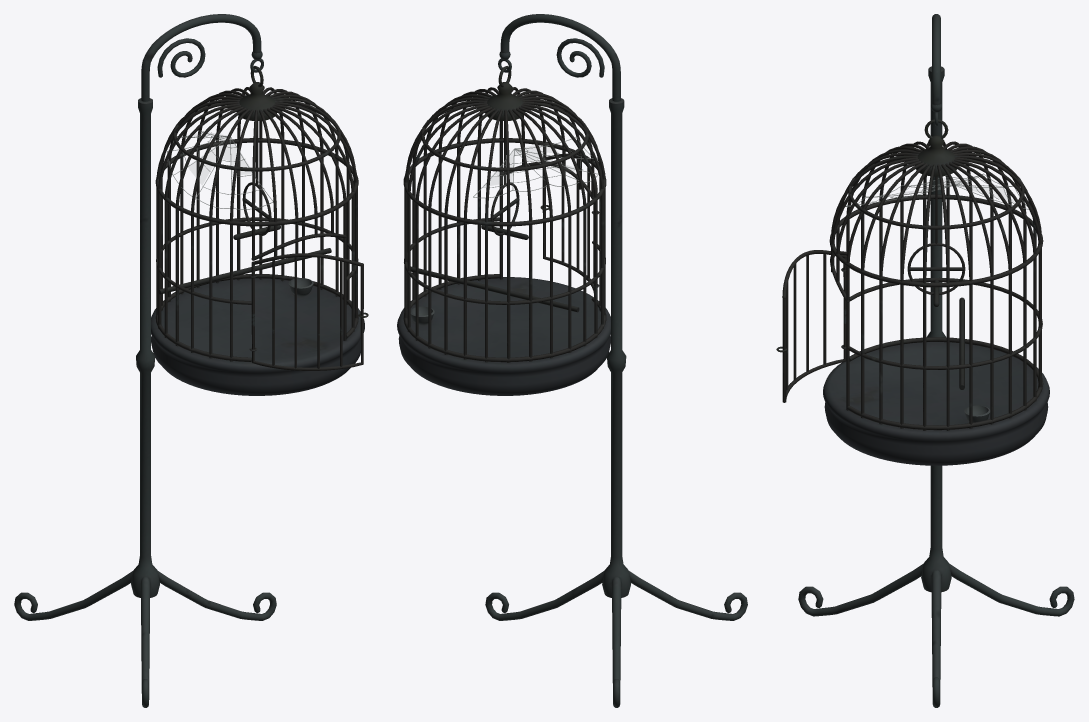
Rendered from rusty-cage.glb.
The picture shows the model from 3 angles, left to right: view 1: azimuth 30°, elevation 25°; view 2: azimuth 150°, elevation 25°; view 3: azimuth 270°, elevation 25°; orthographic projection. The views are drawn at different scales.
Parts seen in each view (by area): view 1: rusty-cage_body, rusty-cage_door, rusty-cage_web; view 2: rusty-cage_body, rusty-cage_door, rusty-cage_web; view 3: rusty-cage_body, rusty-cage_door, rusty-cage_web.
Part boxes in pixels (x1=…): rusty-cage_body: x1=14, y1=14, x2=364, y2=707; rusty-cage_door: x1=251, y1=253, x2=368, y2=370; rusty-cage_web: x1=167, y1=130, x2=273, y2=209; rusty-cage_body: x1=397, y1=14, x2=747, y2=707; rusty-cage_door: x1=540, y1=153, x2=597, y2=296; rusty-cage_web: x1=473, y1=137, x2=598, y2=198; rusty-cage_body: x1=798, y1=14, x2=1074, y2=707; rusty-cage_door: x1=776, y1=250, x2=846, y2=402; rusty-cage_web: x1=845, y1=173, x2=1028, y2=209.
Size of the model in its own units: 0.9018 by 1.96 by 0.8135.
4 materials, 2 textured.
